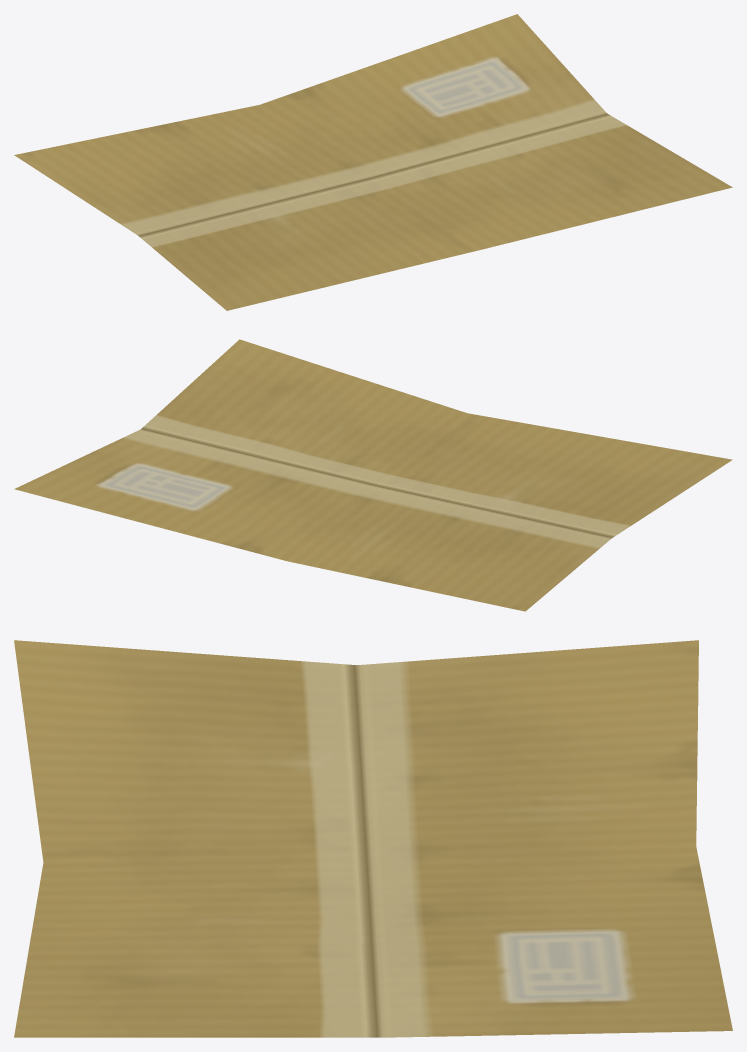
File: p_mesh_vegetablebox_part01.fbx
3 renders of one model, top to bottom at view 1: azimuth 30°, elevation 25°; view 2: azimuth 150°, elevation 25°; view 3: azimuth 270°, elevation 25°, orthographic. The views are drawn at different scales.
Visible parts, largest first — view 1: p_stackedpaper_paper01; view 2: p_stackedpaper_paper01; view 3: p_stackedpaper_paper01.
Boxes of the visible parts, x1,y1,x2,y2 form: p_stackedpaper_paper01: [14, 14, 732, 310]; p_stackedpaper_paper01: [14, 339, 732, 611]; p_stackedpaper_paper01: [14, 640, 732, 1037].
Bounding box in the file's own units: 4.14 × 0.1368 × 3.12.
